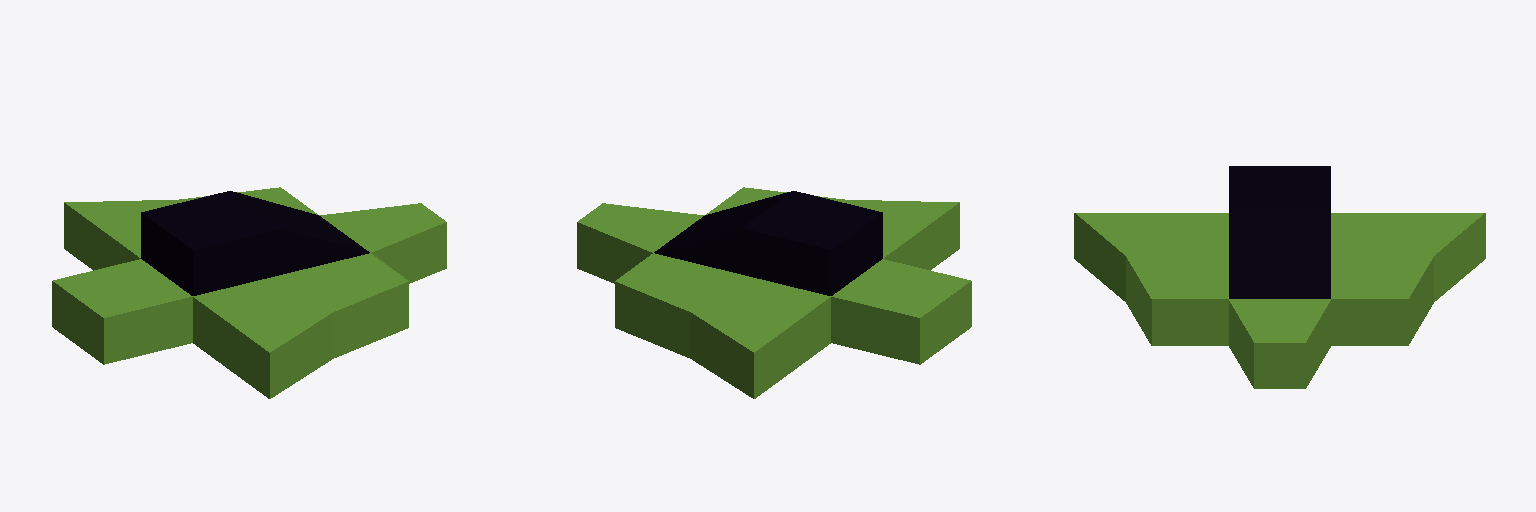
Rendered from spaceship.obj.
3 renders of one model, left to right at view 1: azimuth 30°, elevation 25°; view 2: azimuth 150°, elevation 25°; view 3: azimuth 270°, elevation 25°, orthographic.
Visible parts, largest first — view 1: Cube.004, Cube.007, Cube.009, Cube.003, Cube.001, Cube.005, Cube.008, Cube.002; view 2: Cube.005, Cube.007, Cube.009, Cube.002, Cube.001, Cube.004, Cube.008, Cube.003; view 3: Cube.008, Cube.003, Cube.002, Cube.001, Cube.005, Cube.004, Cube.009.
Part boxes in pixels (left/top/right/bottom): Cube.004: left=193, top=275, right=332, bottom=398; Cube.007: left=52, top=259, right=192, bottom=364; Cube.009: left=141, top=191, right=281, bottom=295; Cube.003: left=283, top=253, right=408, bottom=358; Cube.001: left=319, top=203, right=446, bottom=283; Cube.005: left=64, top=200, right=181, bottom=270; Cube.008: left=232, top=191, right=369, bottom=274; Cube.002: left=179, top=187, right=317, bottom=214; Cube.005: left=691, top=275, right=830, bottom=398; Cube.007: left=831, top=259, right=971, bottom=364; Cube.009: left=742, top=191, right=882, bottom=295; Cube.002: left=615, top=253, right=740, bottom=358; Cube.001: left=577, top=203, right=704, bottom=283; Cube.004: left=842, top=200, right=959, bottom=270; Cube.008: left=654, top=191, right=791, bottom=274; Cube.003: left=706, top=187, right=844, bottom=214; Cube.008: left=1229, top=209, right=1330, bottom=298; Cube.003: left=1126, top=256, right=1228, bottom=345; Cube.002: left=1331, top=256, right=1433, bottom=345; Cube.001: left=1229, top=299, right=1330, bottom=388; Cube.005: left=1331, top=213, right=1485, bottom=301; Cube.004: left=1074, top=213, right=1228, bottom=301; Cube.009: left=1229, top=166, right=1330, bottom=208.
Bounding box in the file's own units: 8 × 2 × 8.